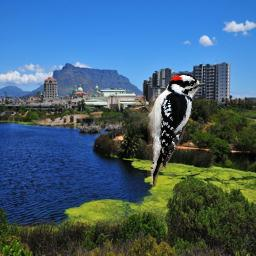Woodpecker: (131, 73, 207, 187)
